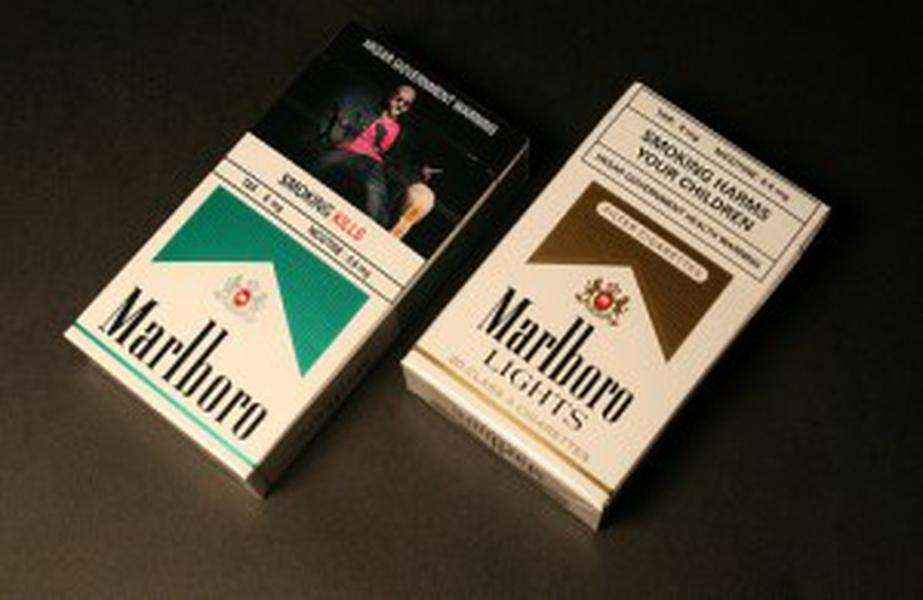marlboro_mentol: (97, 181, 354, 433)
